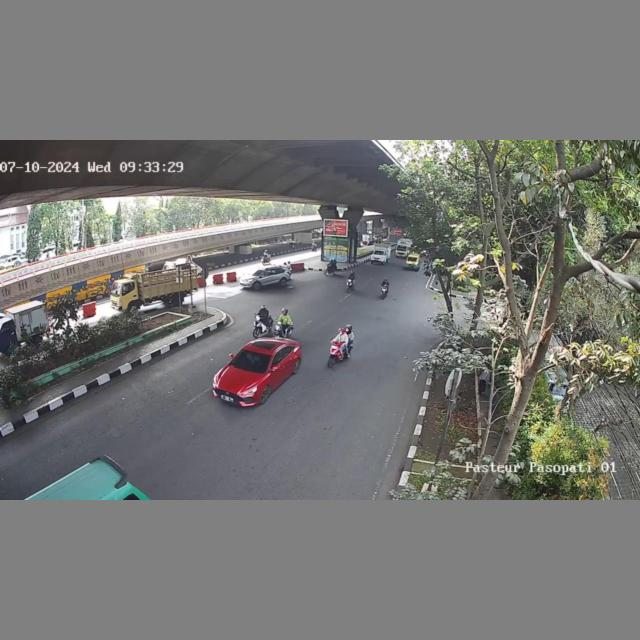windshield: (232, 348, 272, 373)
